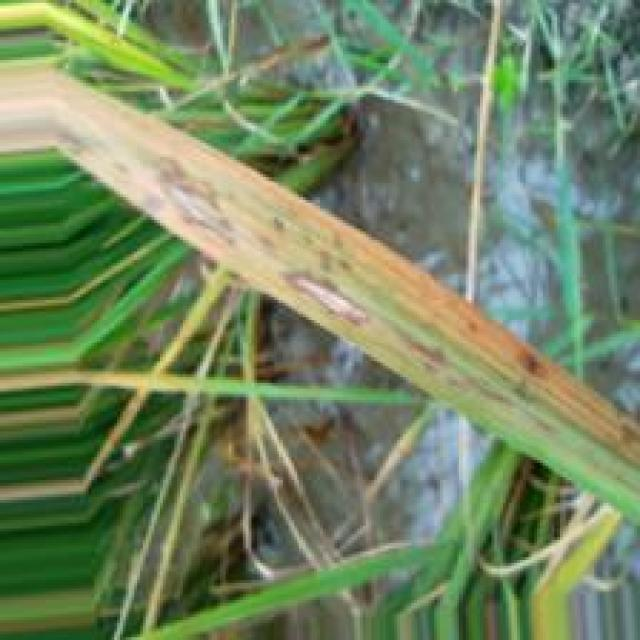Narrow_Brown_Leaf_Spot: (3, 63, 640, 474)
